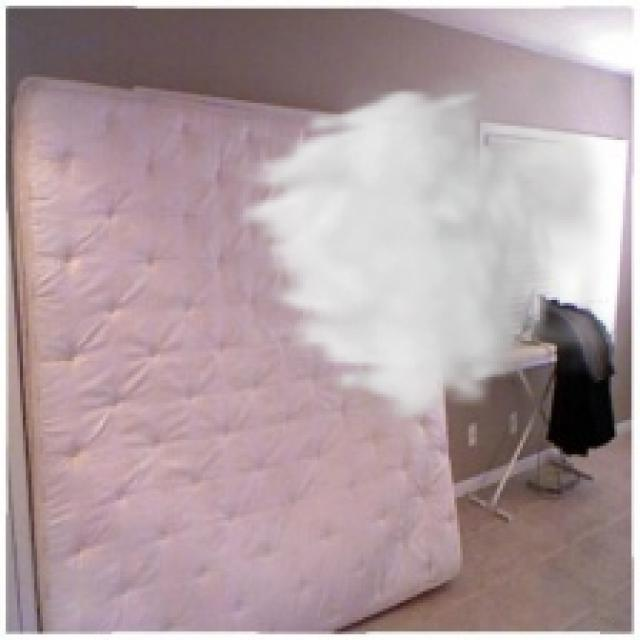Smoke: (228, 14, 634, 426)
